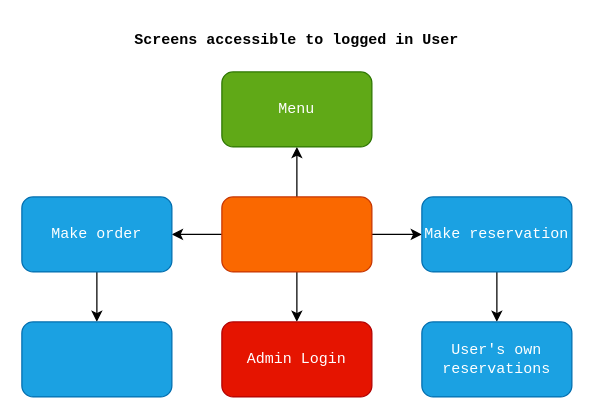
This 594x419 diagram has some shape labels left out. Here are the shapes that lost their labels. From the top down, the centre of each, then its label:
At pixel 296 234: "Home Screen".
At pixel 96 359: "User's own orders".
